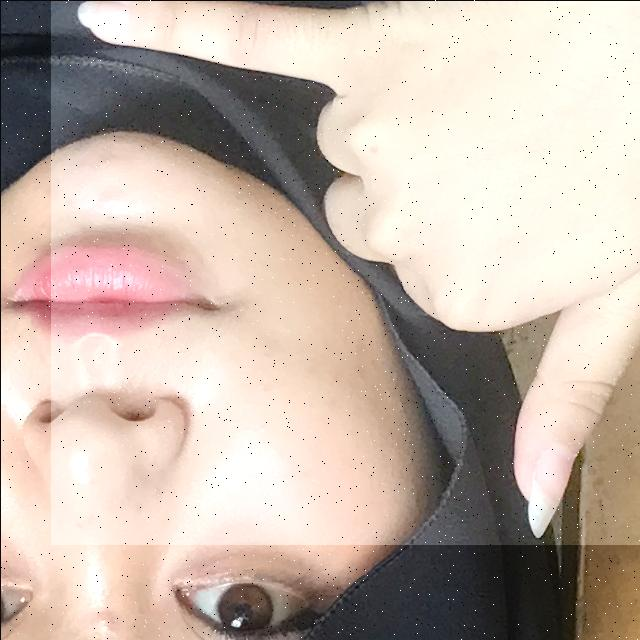telpon: (50, 0, 640, 544)
